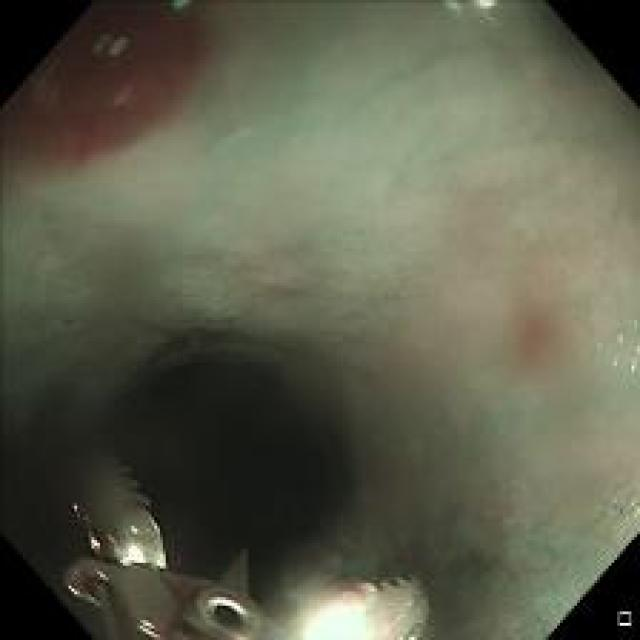blur: (1, 1, 638, 522)
color misalignment: (95, 18, 124, 58)
contrast: (105, 329, 371, 590)
instrument: (51, 431, 435, 631)
specularity: (299, 595, 378, 639), (120, 521, 151, 571), (201, 589, 248, 615), (136, 618, 159, 638), (85, 532, 101, 550), (64, 582, 80, 596)
